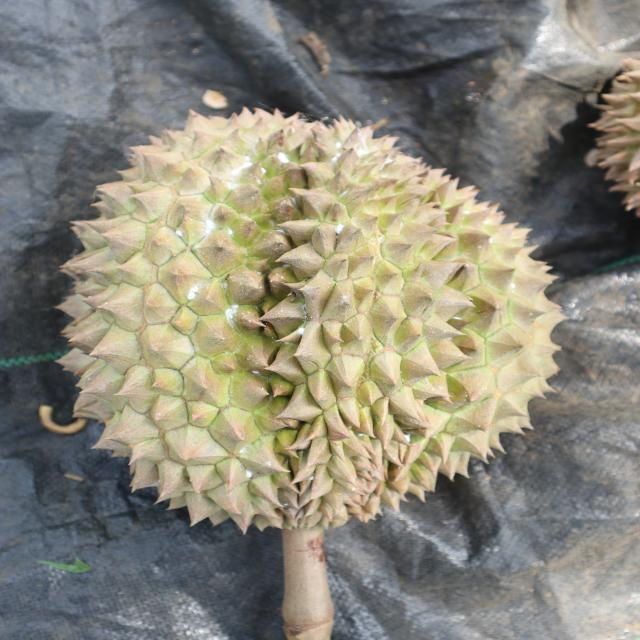mature: (51, 107, 573, 541)
